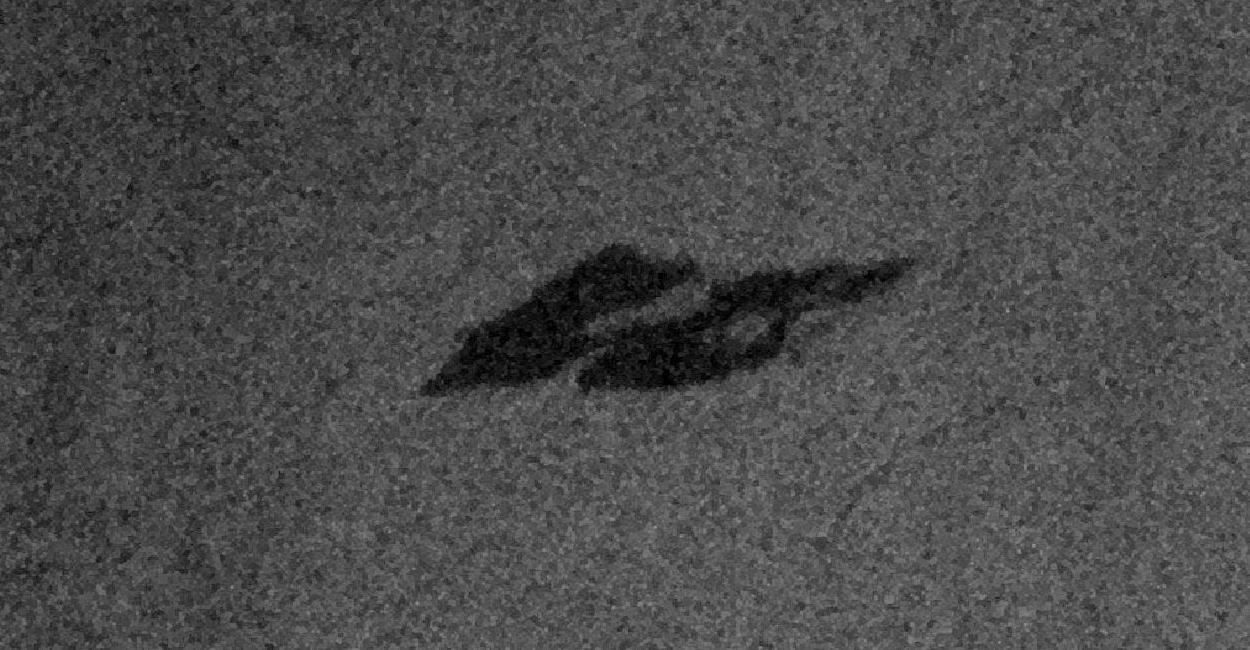Oil Spill: (418, 242, 916, 398), (724, 312, 768, 350), (588, 348, 604, 355), (770, 312, 780, 318), (828, 282, 834, 288), (794, 296, 799, 301), (704, 337, 710, 341), (706, 330, 712, 332), (736, 314, 739, 317), (788, 322, 790, 326), (824, 282, 826, 284), (580, 292, 582, 294), (802, 302, 804, 304), (480, 329, 482, 331), (610, 346, 612, 348)
